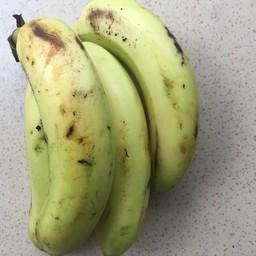Good_banana: (8, 12, 145, 252), (109, 0, 197, 210)
